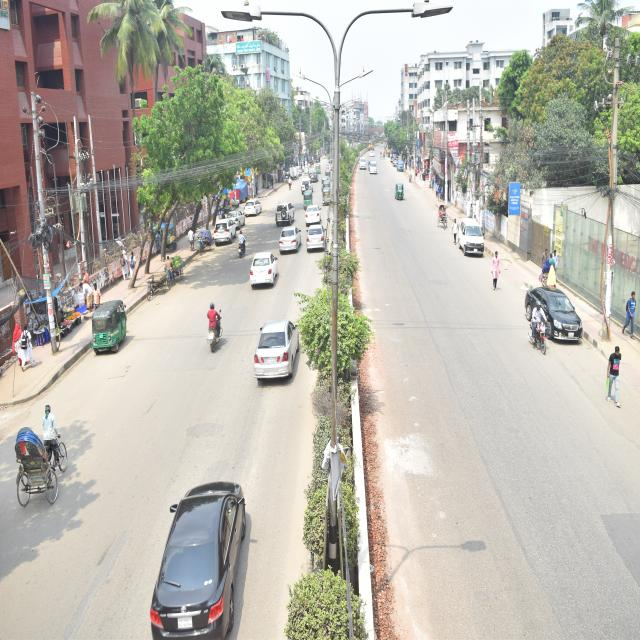car: (160, 475, 240, 640), (521, 284, 584, 352), (253, 302, 301, 384), (453, 209, 487, 270), (282, 226, 304, 255), (308, 228, 333, 252), (210, 211, 226, 244), (242, 193, 257, 219), (306, 199, 324, 220), (276, 203, 293, 224), (368, 162, 382, 180), (227, 213, 240, 223)
motorbike: (204, 301, 227, 360), (235, 232, 247, 257)
